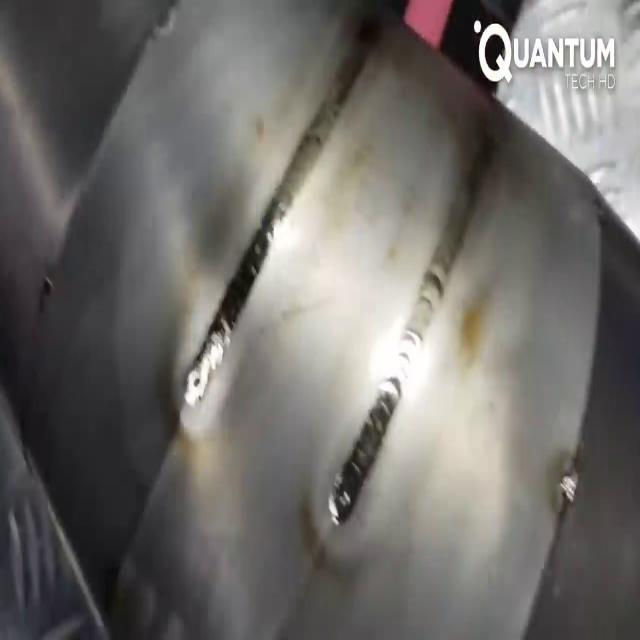Good Weld: (215, 160, 319, 364), (335, 352, 417, 532)
